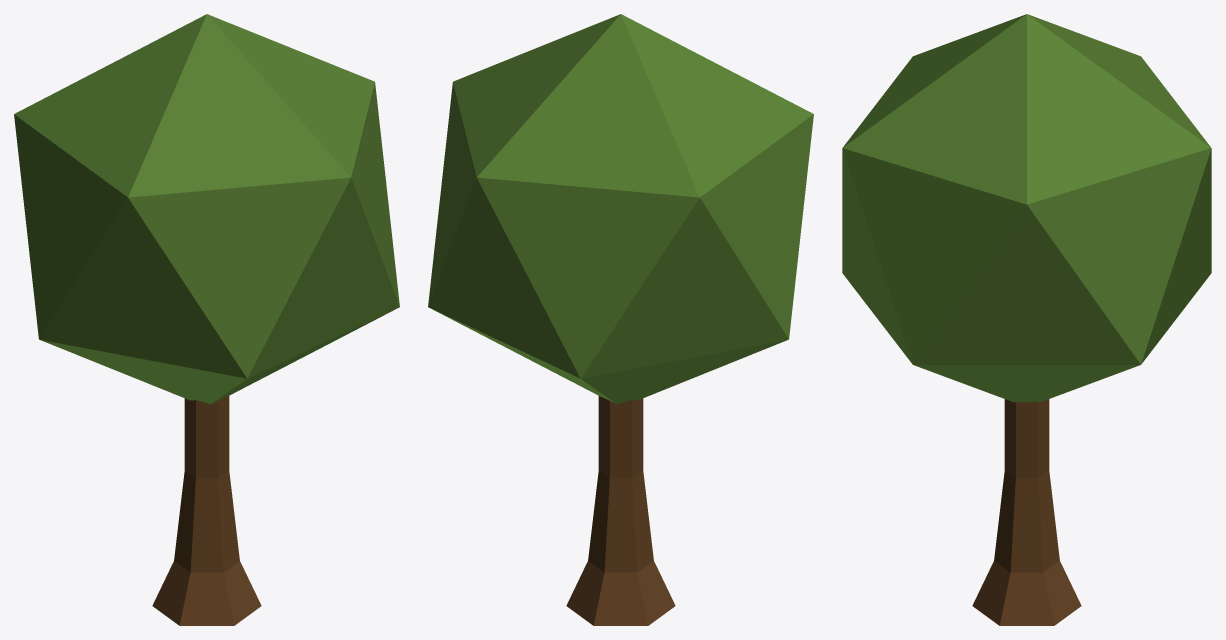
File: Tree4.fbx
3 renders of one model, left to right at view 1: azimuth 30°, elevation 25°; view 2: azimuth 150°, elevation 25°; view 3: azimuth 270°, elevation 25°, orthographic.
Parts seen in each view (by area): view 1: Cylinder.001; view 2: Cylinder.001; view 3: Cylinder.001.
Part boxes in pixels (left/top/right/bottom): Cylinder.001: left=14, top=14, right=399, bottom=625; Cylinder.001: left=428, top=14, right=813, bottom=625; Cylinder.001: left=842, top=14, right=1211, bottom=625.
Size of the model in its own units: 5.18 by 8.72 by 4.93.
